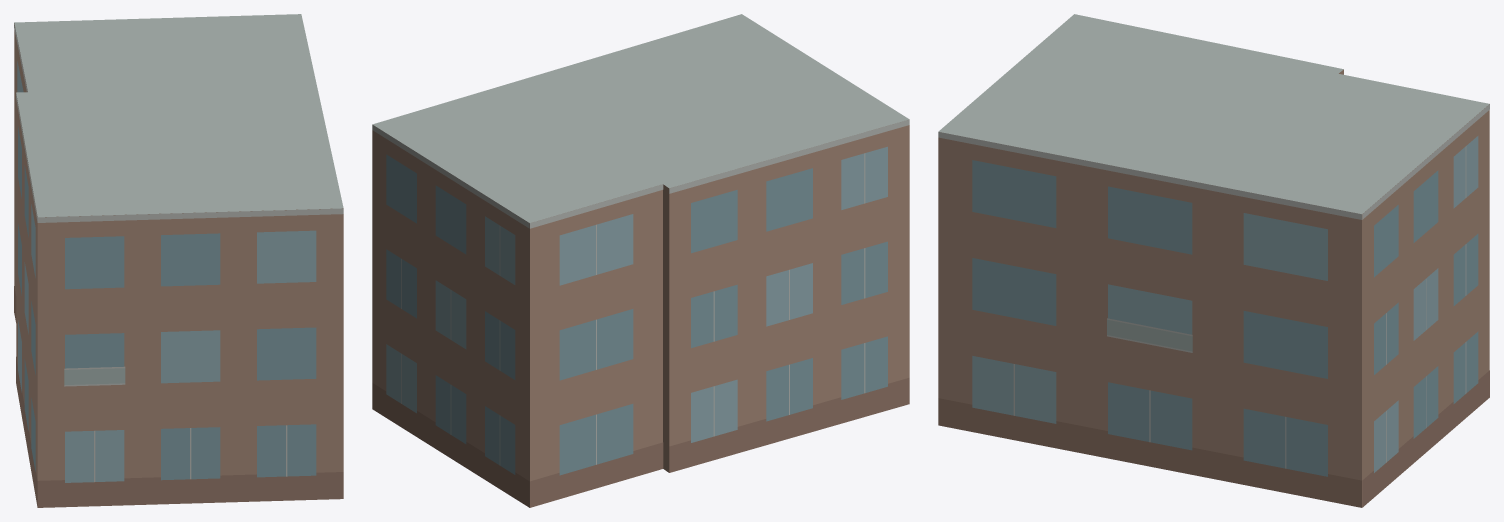
Rendered from survey-upis-32748760.glb.
3 renders of one model, left to right at view 1: azimuth 30°, elevation 25°; view 2: azimuth 150°, elevation 25°; view 3: azimuth 270°, elevation 25°, orthographic. The views are drawn at different scales.
Visible parts, largest first — view 1: survey-upis-32748760.tmp; view 2: survey-upis-32748760.tmp; view 3: survey-upis-32748760.tmp.
Part boxes in pixels (<box>): survey-upis-32748760.tmp: <box>14,14,343,507</box>; survey-upis-32748760.tmp: <box>372,14,909,507</box>; survey-upis-32748760.tmp: <box>938,14,1489,507</box>.
Bounding box in the file's own units: 18.15 × 12.4 × 21.12.
